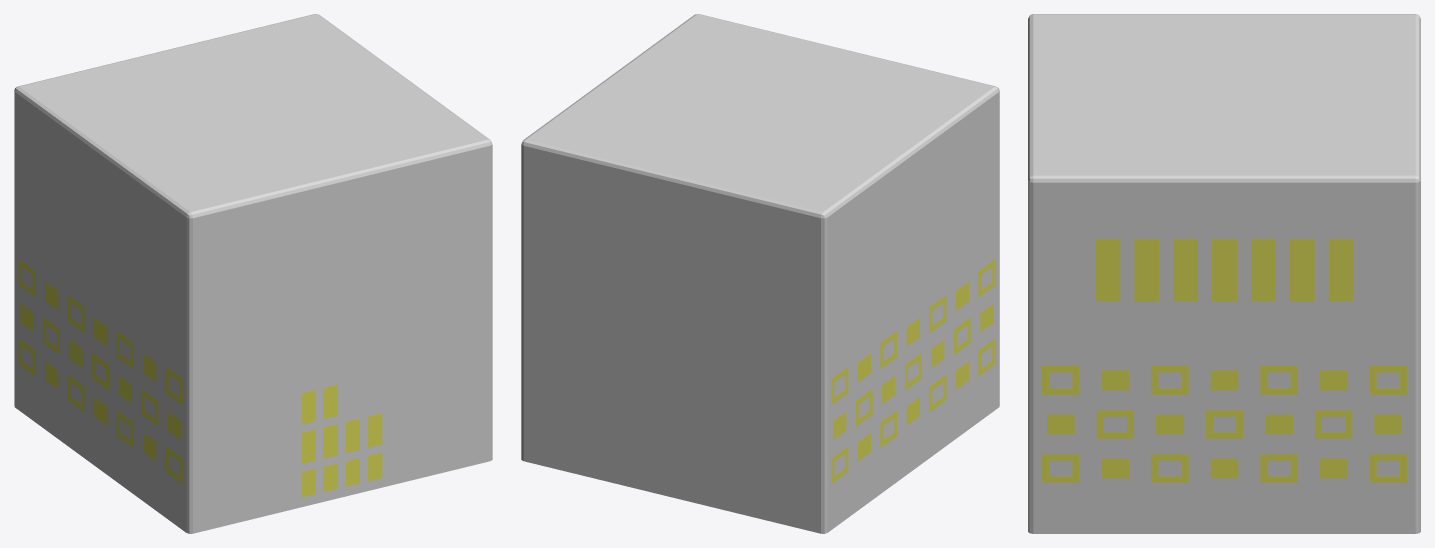
The model's file is noodles.fbx.
3 renders of one model, left to right at view 1: azimuth 30°, elevation 25°; view 2: azimuth 150°, elevation 25°; view 3: azimuth 270°, elevation 25°, orthographic. The views are drawn at different scales.
Parts seen in each view (by area): view 1: Cube; view 2: Cube; view 3: Cube.
Part boxes in pixels (bbox=[...]): Cube: bbox=[14, 14, 492, 533]; Cube: bbox=[521, 14, 999, 533]; Cube: bbox=[1028, 14, 1420, 533].
Bounding box in the file's own units: 4 × 4 × 4.
